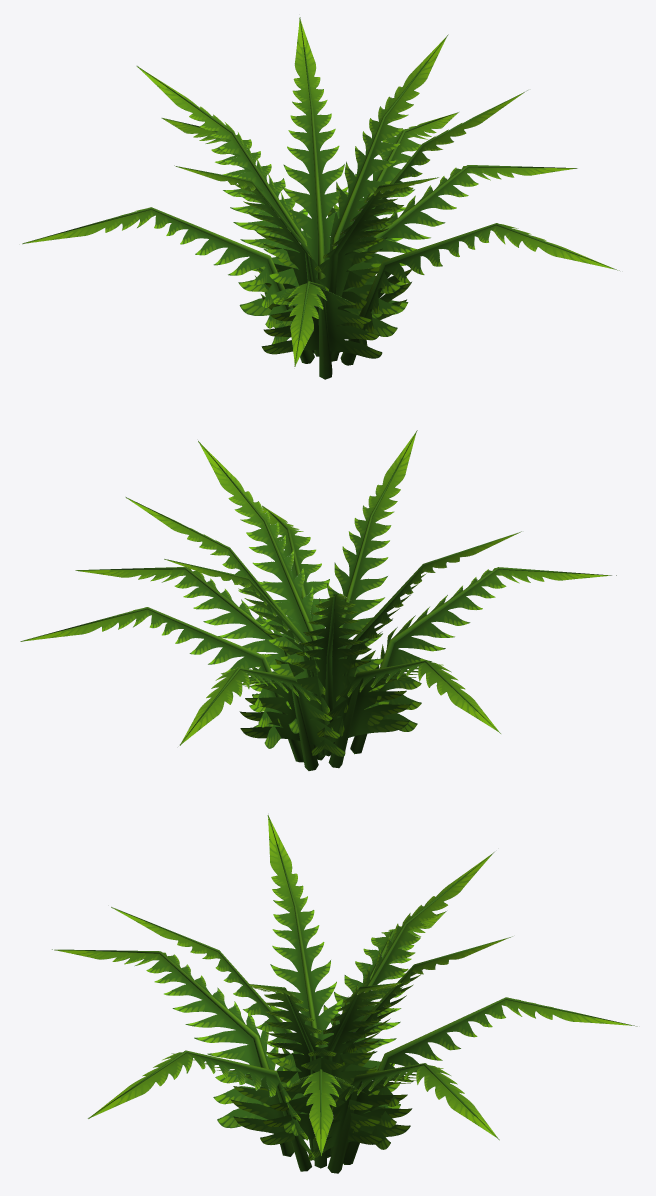
Rendered from Bush_01.FBX.
The picture shows the model from 3 angles, top to bottom: view 1: azimuth 30°, elevation 25°; view 2: azimuth 150°, elevation 25°; view 3: azimuth 270°, elevation 25°; orthographic projection. The views are drawn at different scales.
Parts seen in each view (by area): view 1: Bush_01; view 2: Bush_01; view 3: Bush_01.
Part boxes in pixels (box(x1,y1,x2,y2)): Bush_01: box(22, 17, 619, 379); Bush_01: box(20, 430, 616, 770); Bush_01: box(52, 815, 637, 1173).
Bounding box in the file's own units: 55.92 × 26.59 × 57.31.
Materials: 1 (1 with a texture image).
